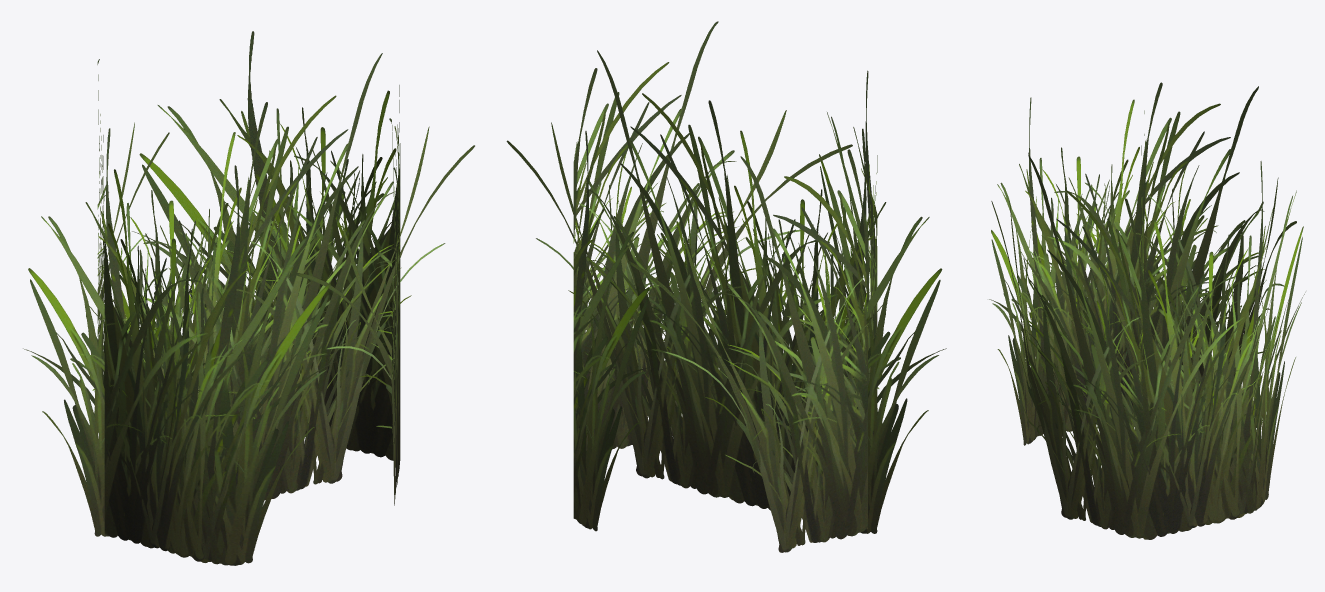
The model's file is Grass-2.fbx.
3 views of the same model, side by side, from view 1: azimuth 30°, elevation 25°; view 2: azimuth 150°, elevation 25°; view 3: azimuth 270°, elevation 25° (orthographic). The views are drawn at different scales.
Visible parts, largest first — view 1: cylinder_grass; view 2: cylinder_grass; view 3: cylinder_grass.
Part boxes in pixels (bbox=[...]): cylinder_grass: bbox=[23, 31, 474, 565]; cylinder_grass: bbox=[506, 21, 946, 552]; cylinder_grass: bbox=[989, 82, 1305, 539].
Size of the model in its own units: 1.22 by 1.1 by 0.8746.
